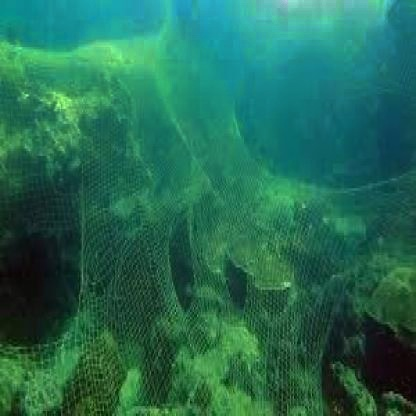net: (73, 77, 362, 416)
